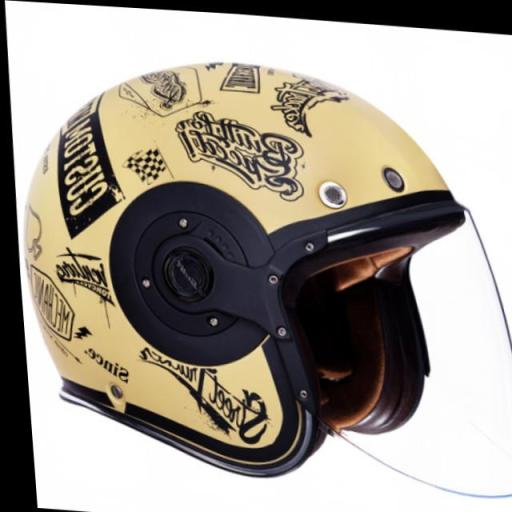Helmet: (2, 36, 512, 512)
